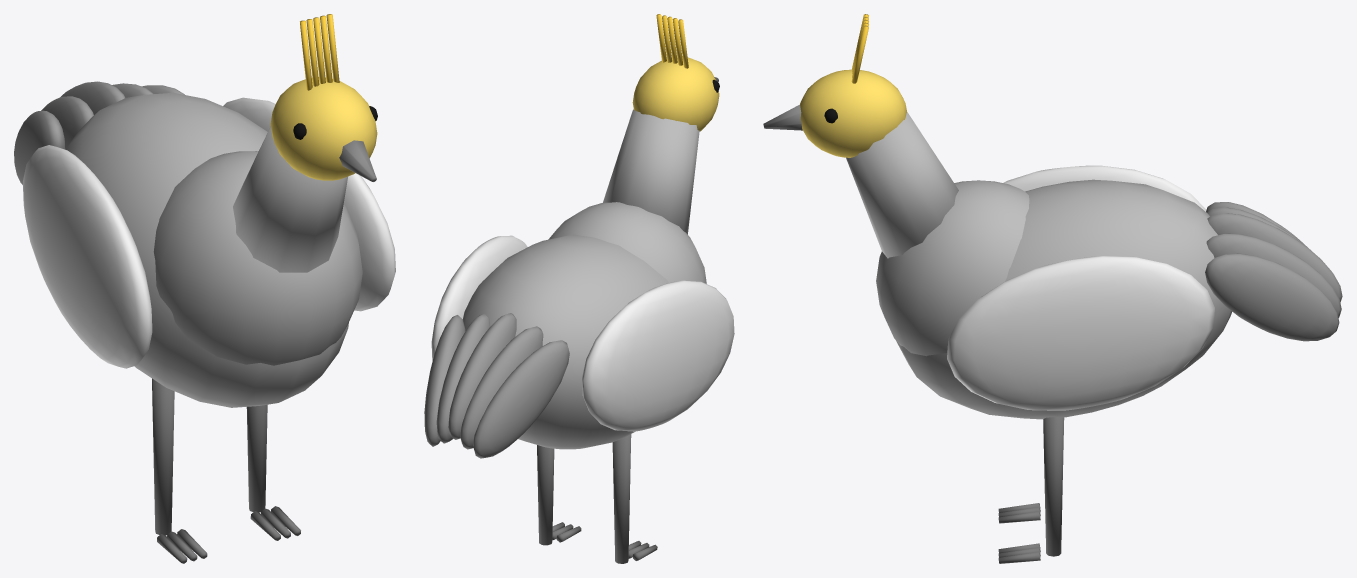
The model's file is cockatiel.glb.
3 views of the same model, side by side, from view 1: azimuth 30°, elevation 25°; view 2: azimuth 150°, elevation 25°; view 3: azimuth 270°, elevation 25° (orthographic). The views are drawn at different scales.
Visible parts, largest first — view 1: cockatiel; view 2: cockatiel; view 3: cockatiel.
Part boxes in pixels (x1,y1,x2,y2): cockatiel: (14, 14, 395, 563); cockatiel: (424, 14, 734, 563); cockatiel: (763, 14, 1342, 563).
Size of the model in its own units: 0.3232 by 0.6706 by 0.6784.
